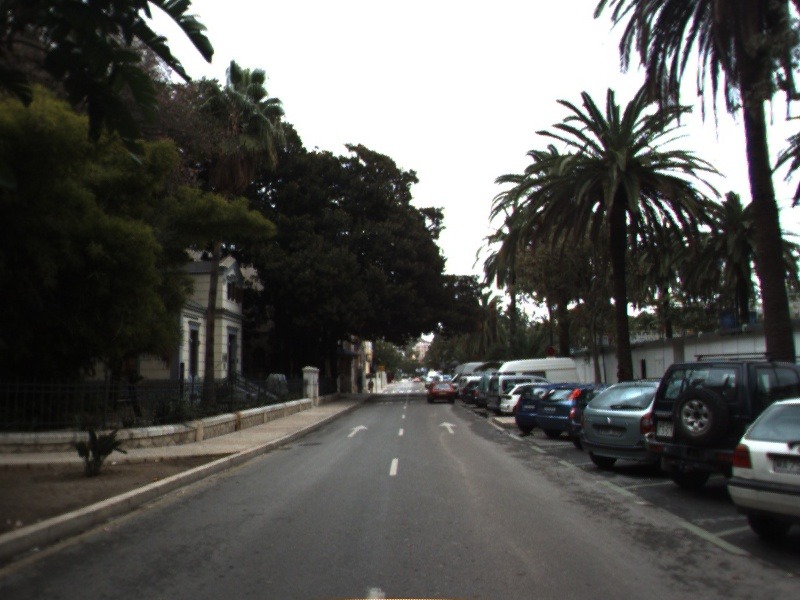STRAIGHT: (345, 423, 371, 439), (436, 420, 459, 436)
